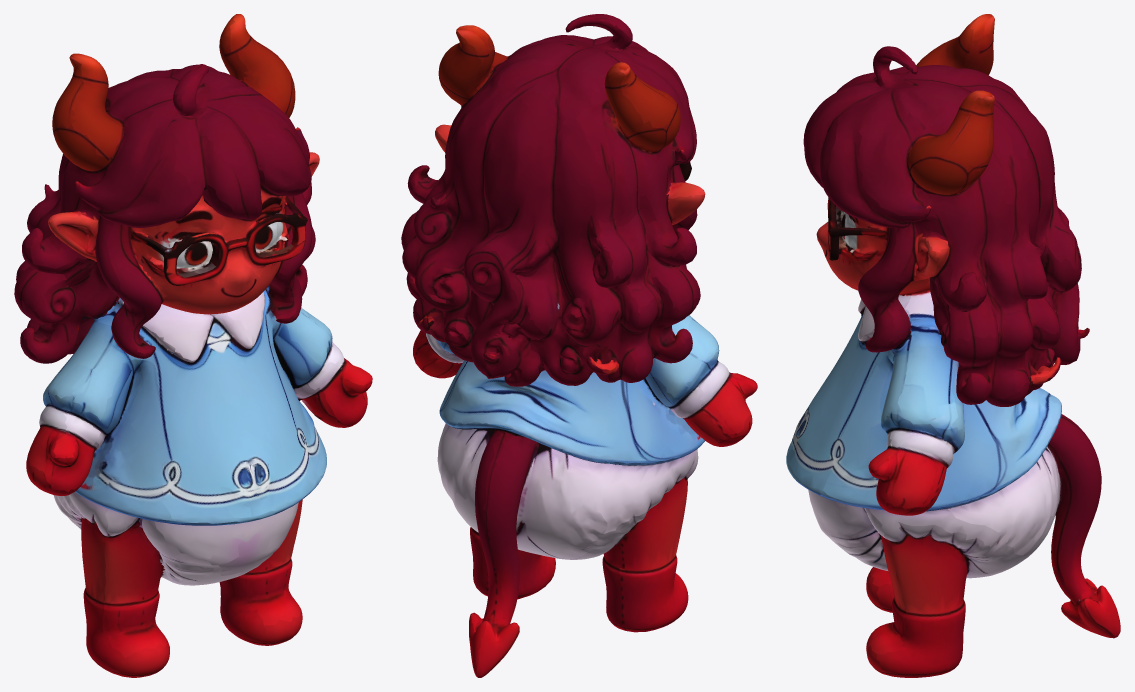
File: millimdoll.glb
3 renders of one model, left to right at view 1: azimuth 30°, elevation 25°; view 2: azimuth 150°, elevation 25°; view 3: azimuth 270°, elevation 25°, orthographic.
Visible parts, largest first — view 1: temp_mesh.ply; view 2: temp_mesh.ply; view 3: temp_mesh.ply.
Part boxes in pixels (left/top/right/bottom): temp_mesh.ply: left=14, top=14, right=372, bottom=677; temp_mesh.ply: left=401, top=14, right=757, bottom=677; temp_mesh.ply: left=786, top=14, right=1120, bottom=677.
Size of the model in its own units: 1.17 by 1.97 by 1.02.
1 material, 1 textured.
